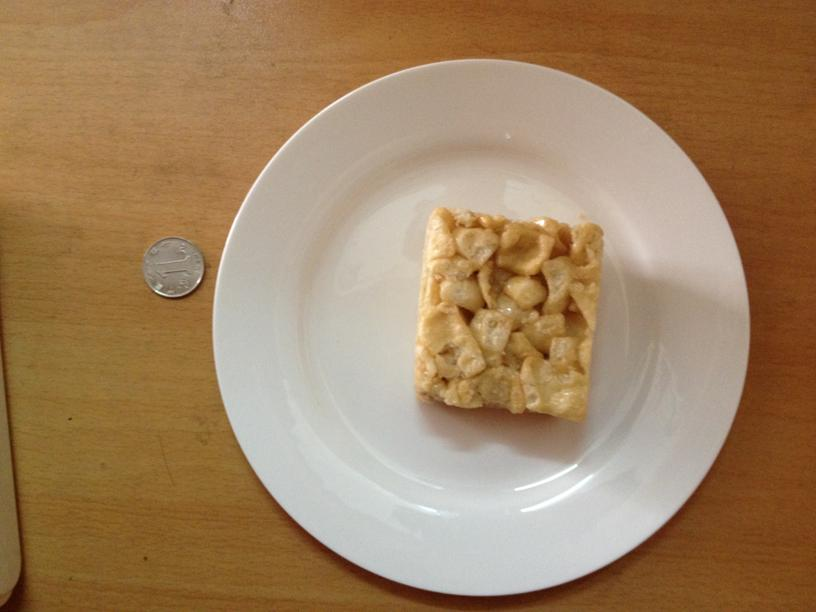coin: (142, 235, 204, 297)
sachima: (414, 205, 600, 422)
